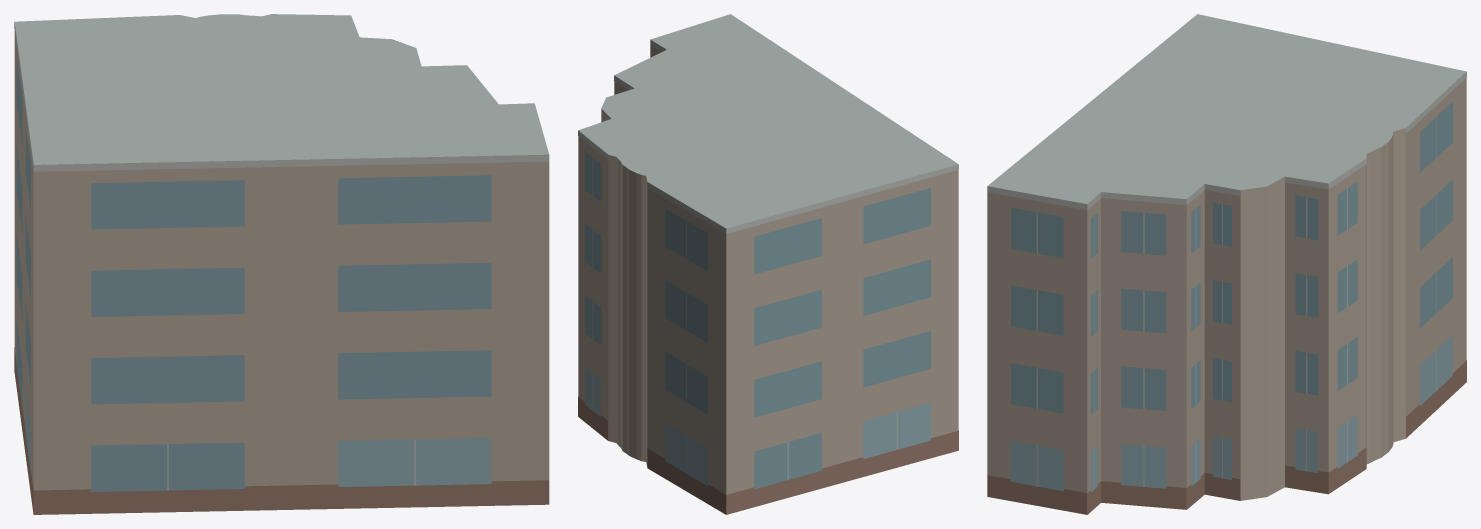
File: survey-upis-32712479.glb
The picture shows the model from 3 angles, left to right: view 1: azimuth 30°, elevation 25°; view 2: azimuth 150°, elevation 25°; view 3: azimuth 270°, elevation 25°; orthographic projection. The views are drawn at different scales.
Parts seen in each view (by area): view 1: survey-upis-32712479.tmp; view 2: survey-upis-32712479.tmp; view 3: survey-upis-32712479.tmp.
Part boxes in pixels (bbox=[...]): survey-upis-32712479.tmp: bbox=[14, 14, 549, 514]; survey-upis-32712479.tmp: bbox=[578, 14, 958, 514]; survey-upis-32712479.tmp: bbox=[987, 14, 1466, 514].
Bounding box in the file's own units: 16.55 × 12.6 × 17.63.
